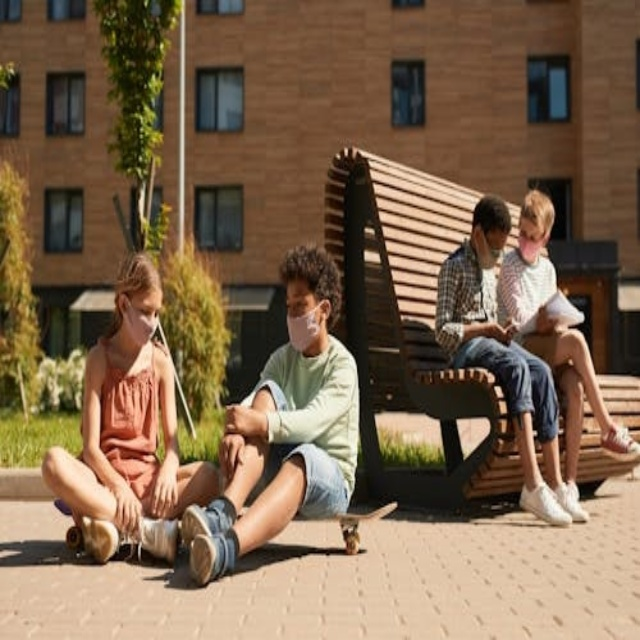Mascara: (287, 302, 327, 351), (120, 298, 158, 348), (479, 230, 503, 266), (518, 231, 545, 263)
Sin_guantes: (218, 400, 251, 475), (110, 482, 144, 534), (150, 457, 178, 511)
